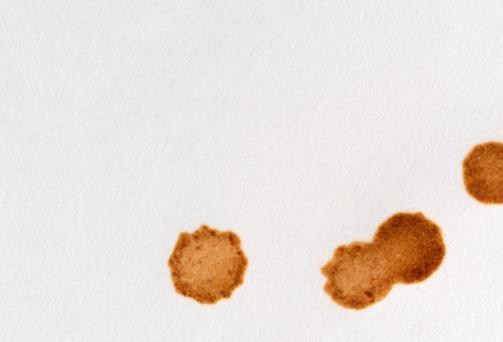stain: (323, 207, 453, 311), (167, 220, 257, 308), (462, 138, 503, 207)
